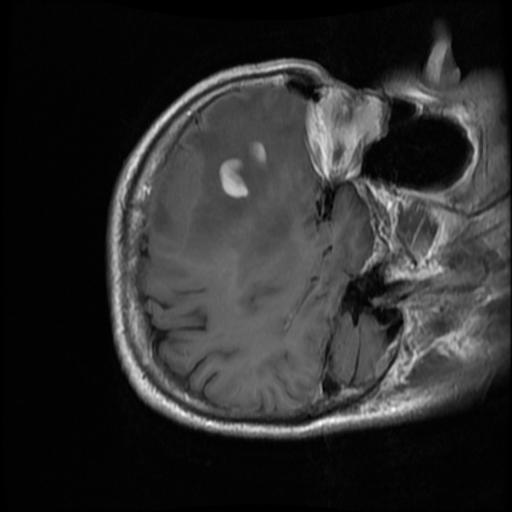glioma: (219, 139, 269, 198)
